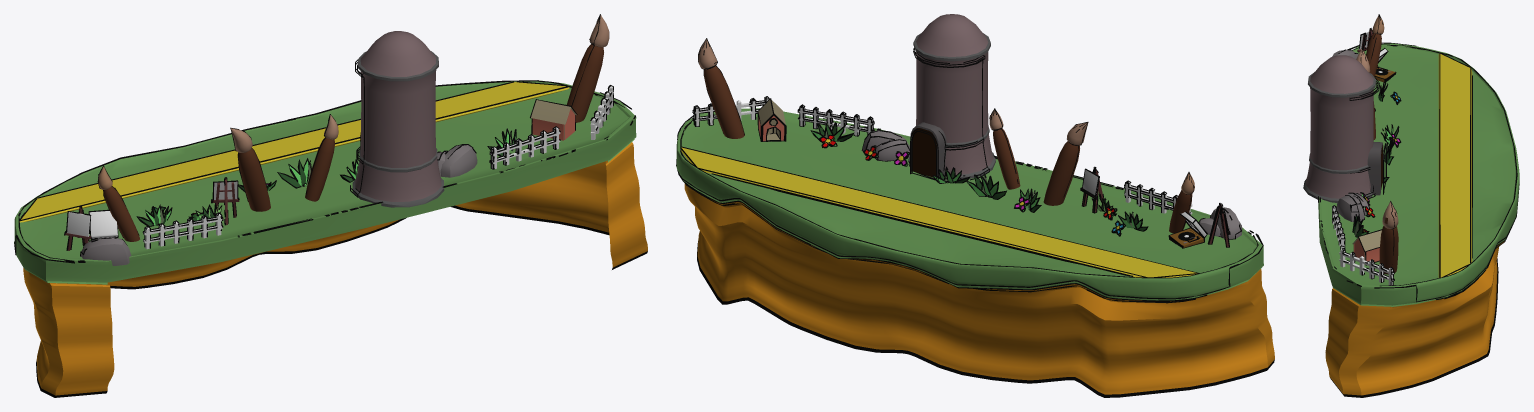
File: island (2).fbx
3 views of the same model, side by side, from view 1: azimuth 30°, elevation 25°; view 2: azimuth 150°, elevation 25°; view 3: azimuth 270°, elevation 25° (orthographic). The views are drawn at different scales.
Visible parts, largest first — view 1: Plane.013, Plane.016, Platform, Plane.017, Plane.019, Plane.014, Plane.018; view 2: Plane.013, Plane.016, Platform, Plane.017, Plane.019, LineArt, Plane.014, Plane.018; view 3: Plane.013, Plane.016, Platform, Plane.017, Plane.018, LineArt, Plane.019.
Boxes of the visible parts, <box> form: Plane.013: <box>14,80,647,397</box>; Plane.016: <box>352,31,444,207</box>; Platform: <box>19,81,569,222</box>; Plane.017: <box>566,14,609,122</box>; Plane.019: <box>230,127,270,211</box>; Plane.014: <box>305,114,338,201</box>; Plane.018: <box>97,165,139,241</box>; Plane.013: <box>676,96,1274,397</box>; Plane.016: <box>908,14,995,179</box>; Platform: <box>680,146,1199,277</box>; Plane.017: <box>698,38,744,138</box>; Plane.019: <box>1043,122,1088,205</box>; LineArt: <box>908,47,989,182</box>; Plane.014: <box>989,108,1020,189</box>; Plane.018: <box>1169,172,1194,233</box>; Plane.013: <box>1318,28,1519,397</box>; Plane.016: <box>1303,55,1383,202</box>; Platform: <box>1438,53,1472,277</box>; Plane.017: <box>1379,201,1398,274</box>; Plane.018: <box>1366,14,1384,76</box>; LineArt: <box>1349,77,1386,198</box>; Plane.019: <box>1356,48,1375,139</box>.
Size of the model in its own units: 1406 by 642 by 524.
